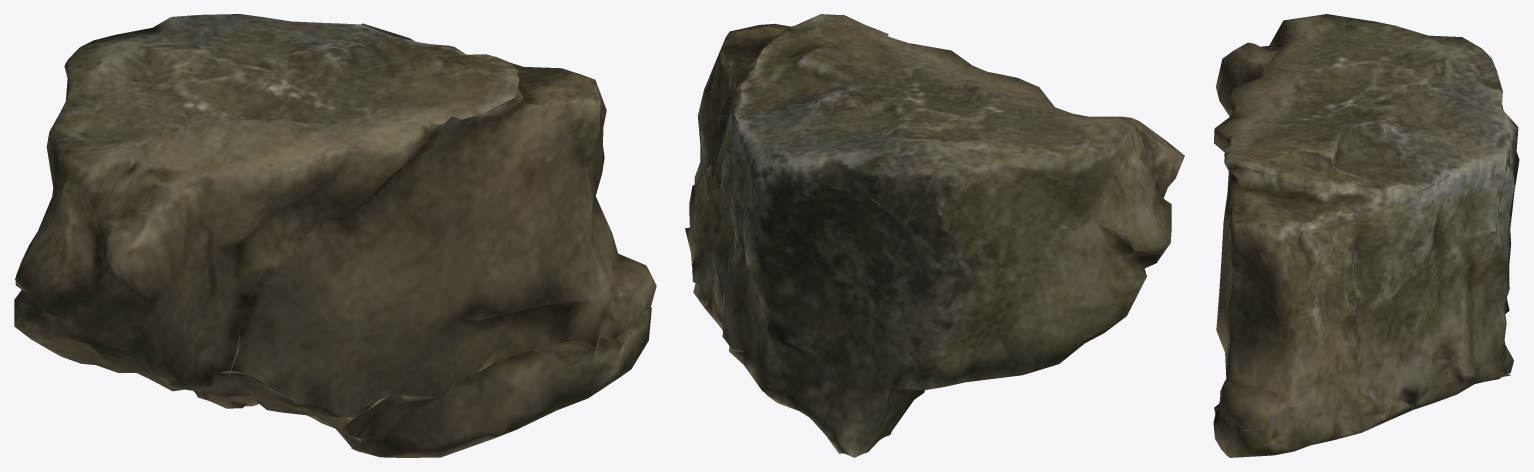
Rendered from pr_moss_b_07.fbx.
3 views of the same model, side by side, from view 1: azimuth 30°, elevation 25°; view 2: azimuth 150°, elevation 25°; view 3: azimuth 270°, elevation 25° (orthographic). The views are drawn at different scales.
Visible parts, largest first — view 1: pr_moss_b_07_LOD0; view 2: pr_moss_b_07_LOD0; view 3: pr_moss_b_07_LOD0.
Part boxes in pixels (box(x1,y1,x2,y2)): pr_moss_b_07_LOD0: box(14, 14, 656, 457); pr_moss_b_07_LOD0: box(685, 14, 1184, 457); pr_moss_b_07_LOD0: box(1213, 14, 1519, 457).
Size of what is drawn, in the model's own units: 2.1 by 1.26 by 1.14.
Materials: 1 (1 with a texture image).
